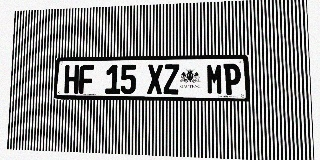1: (105, 65, 121, 94)
5: (121, 65, 136, 94)
F: (79, 65, 94, 94)
H: (64, 65, 79, 94)
M: (206, 64, 223, 95)
P: (223, 63, 241, 95)
X: (147, 64, 163, 94)
Z: (163, 64, 179, 94)
